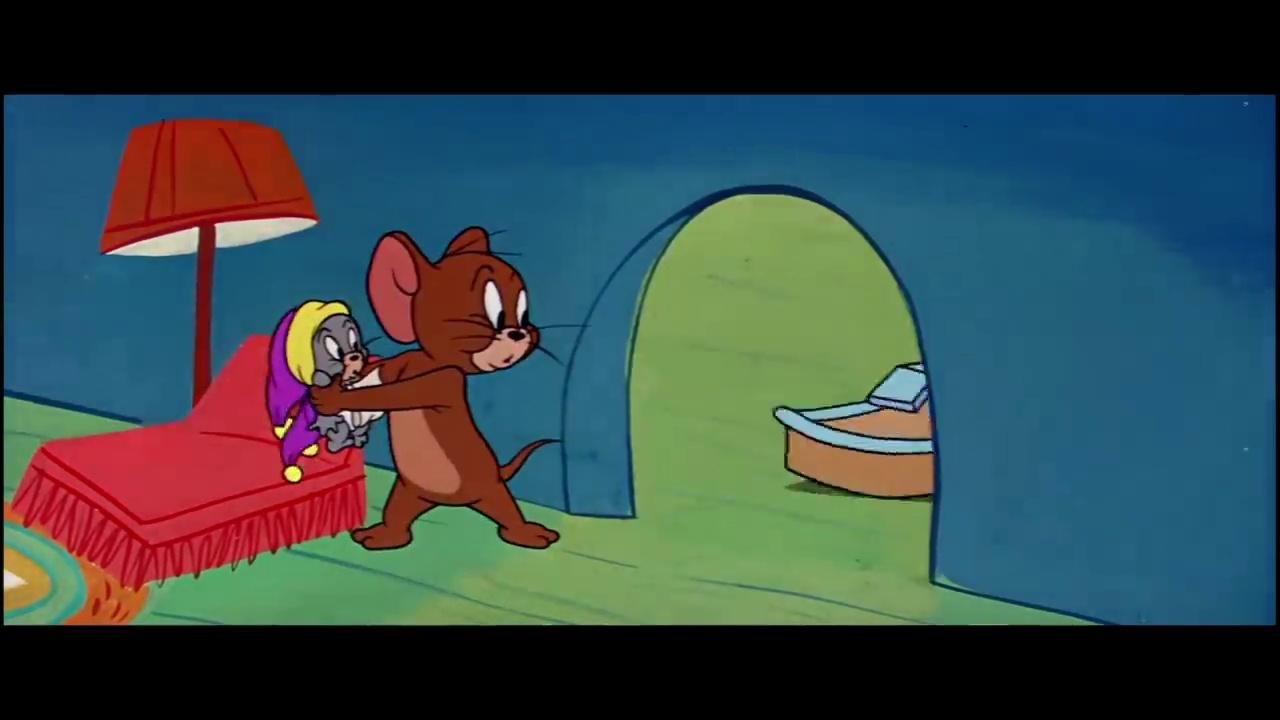Jerry: (307, 222, 567, 553)
